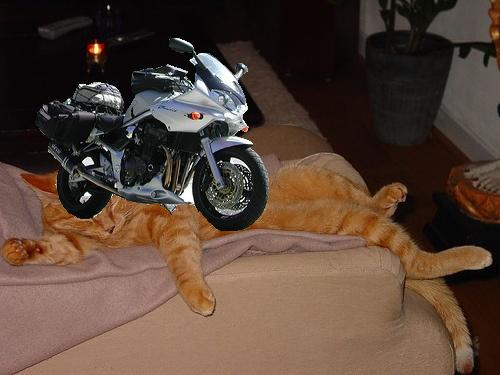tampered: (36, 39, 269, 231)
